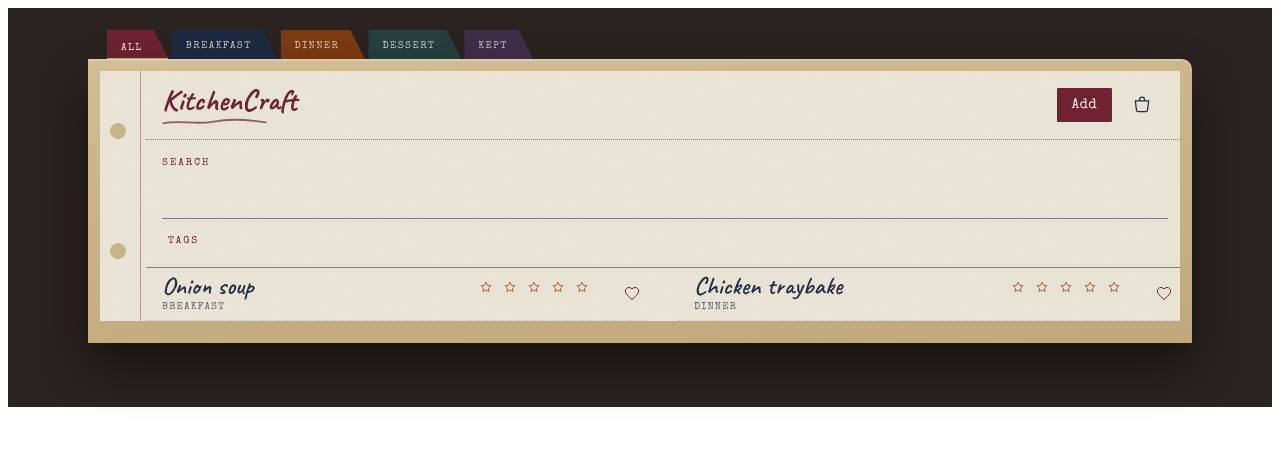
search and filters on the page › shows the result count once a filter is active, and not before
The width and height of the screenshot is (1280, 456).
Click the button with test id "tab-dinner" at (323, 45), box top-left (280, 30), bottom-right (365, 60)
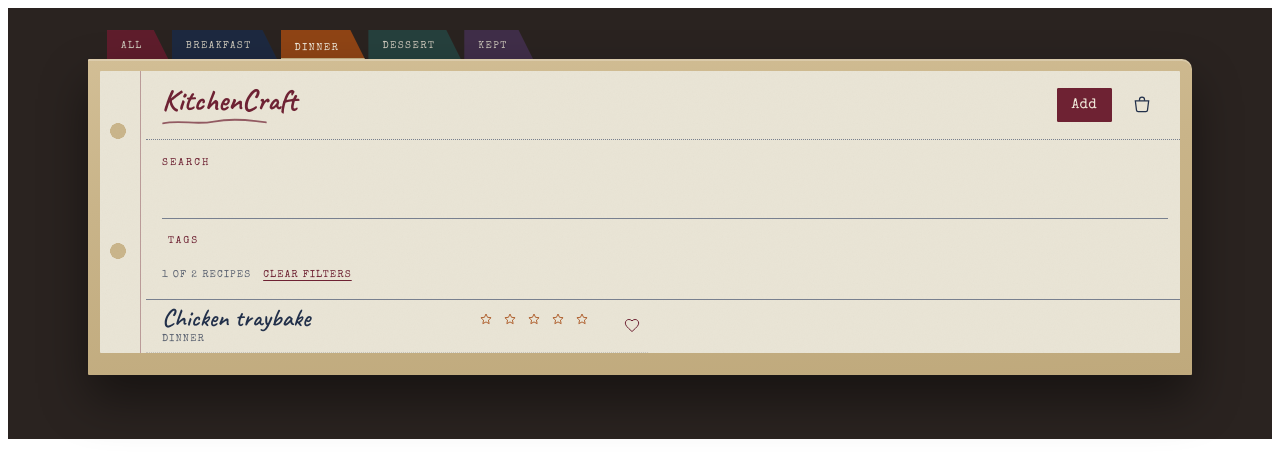
Now the text with test id "count" reads "1 of 2 recipes", box top-left (162, 270), bottom-right (251, 280)
